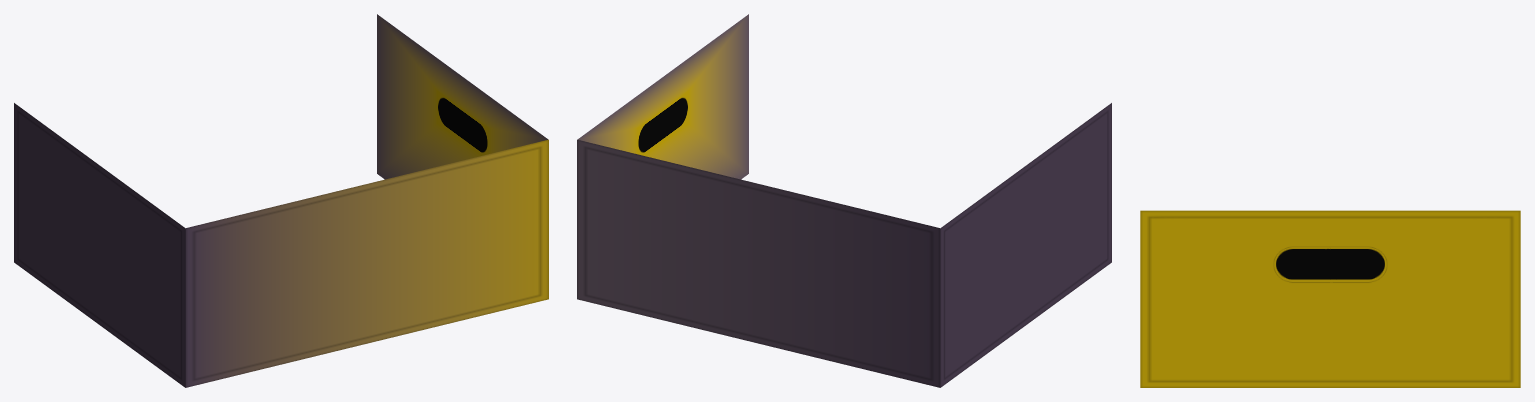
3 renders of one model, left to right at view 1: azimuth 30°, elevation 25°; view 2: azimuth 150°, elevation 25°; view 3: azimuth 270°, elevation 25°, orthographic. The views are drawn at different scales.
Visible parts, largest first — view 1: Joint_0_Object_0, Joint_0_Object_1; view 2: Joint_0_Object_0, Joint_0_Object_1; view 3: Joint_0_Object_0.
Part boxes in pixels (<box>): Joint_0_Object_0: <box>14,103,548,387</box>; Joint_0_Object_1: <box>377,14,547,179</box>; Joint_0_Object_0: <box>577,103,1111,387</box>; Joint_0_Object_1: <box>578,14,748,179</box>; Joint_0_Object_0: <box>1140,210,1520,387</box>.
Bounding box in the file's own units: 1114 × 468 × 911.
2 materials, 2 textured.
